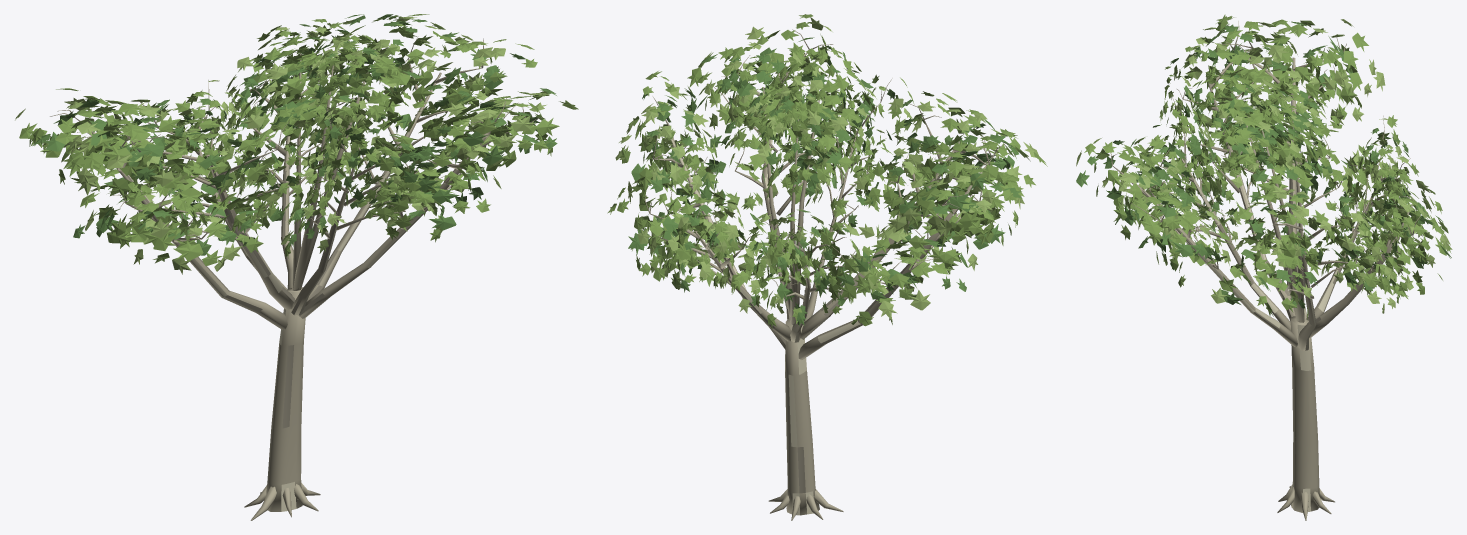
3 views of the same model, side by side, from view 1: azimuth 30°, elevation 25°; view 2: azimuth 150°, elevation 25°; view 3: azimuth 270°, elevation 25° (orthographic). The views are drawn at different scales.
Parts seen in each view (by area): view 1: tree_plane_c_PlaneLeaf, tree_plane_c_PlaneBark, tree_plane_c_PlaneLeafDark, tree_plane_c_PlaneLeafLight, tree_plane_c_PlaneBarkPale, tree_plane_c_PlaneBarkBrown; view 2: tree_plane_c_PlaneLeaf, tree_plane_c_PlaneLeafDark, tree_plane_c_PlaneLeafLight, tree_plane_c_PlaneBark, tree_plane_c_PlaneBarkPale, tree_plane_c_PlaneBarkBrown; view 3: tree_plane_c_PlaneLeaf, tree_plane_c_PlaneBark, tree_plane_c_PlaneLeafLight, tree_plane_c_PlaneLeafDark, tree_plane_c_PlaneBarkPale, tree_plane_c_PlaneBarkBrown.
Boxes of the visible parts, x1,y1,x2,y2 form: tree_plane_c_PlaneLeaf: (19,14,578,265); tree_plane_c_PlaneBark: (50,36,541,520); tree_plane_c_PlaneLeafDark: (32,14,557,255); tree_plane_c_PlaneLeafLight: (15,16,549,274); tree_plane_c_PlaneBarkPale: (128,72,482,511); tree_plane_c_PlaneBarkBrown: (127,156,389,428); tree_plane_c_PlaneLeaf: (607,14,1047,328); tree_plane_c_PlaneLeafDark: (628,24,1022,325); tree_plane_c_PlaneLeafLight: (615,17,1038,319); tree_plane_c_PlaneBark: (644,29,1005,520); tree_plane_c_PlaneBarkPale: (670,73,911,515); tree_plane_c_PlaneBarkBrown: (696,151,955,493); tree_plane_c_PlaneLeaf: (1084,14,1452,316); tree_plane_c_PlaneBark: (1110,21,1420,520); tree_plane_c_PlaneLeafLight: (1076,19,1450,319); tree_plane_c_PlaneLeafDark: (1076,21,1451,308); tree_plane_c_PlaneBarkPale: (1143,58,1399,512); tree_plane_c_PlaneBarkBrown: (1206,58,1381,324).
Bounding box in the file's own units: 14.89 × 15.09 × 11.73.
